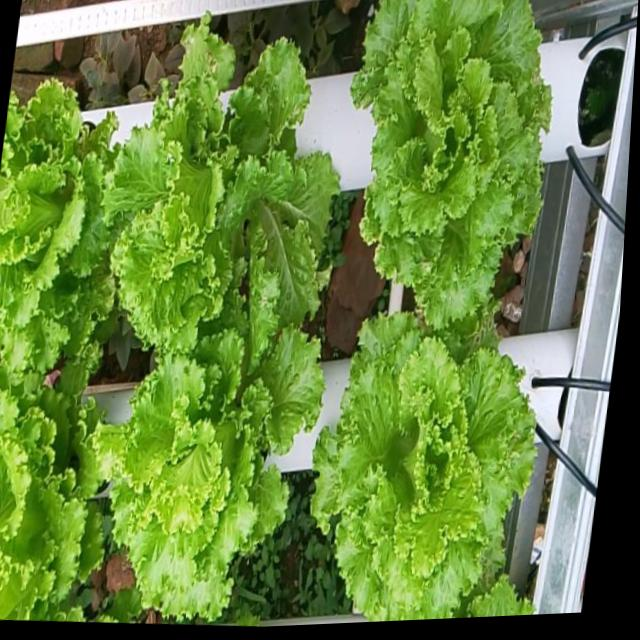Mature: (103, 1, 353, 348), (309, 309, 535, 622), (92, 325, 322, 620), (350, 0, 551, 329), (0, 75, 114, 369), (0, 351, 99, 620)
